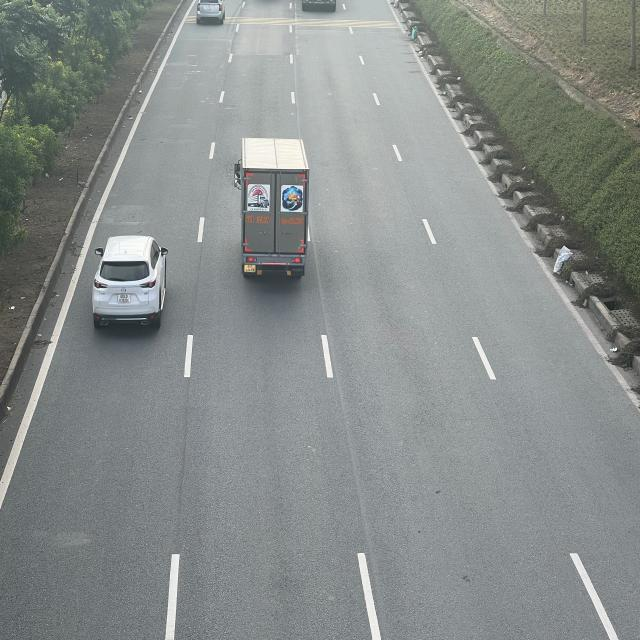car: (94, 234, 171, 330)
truck: (236, 139, 312, 281)
